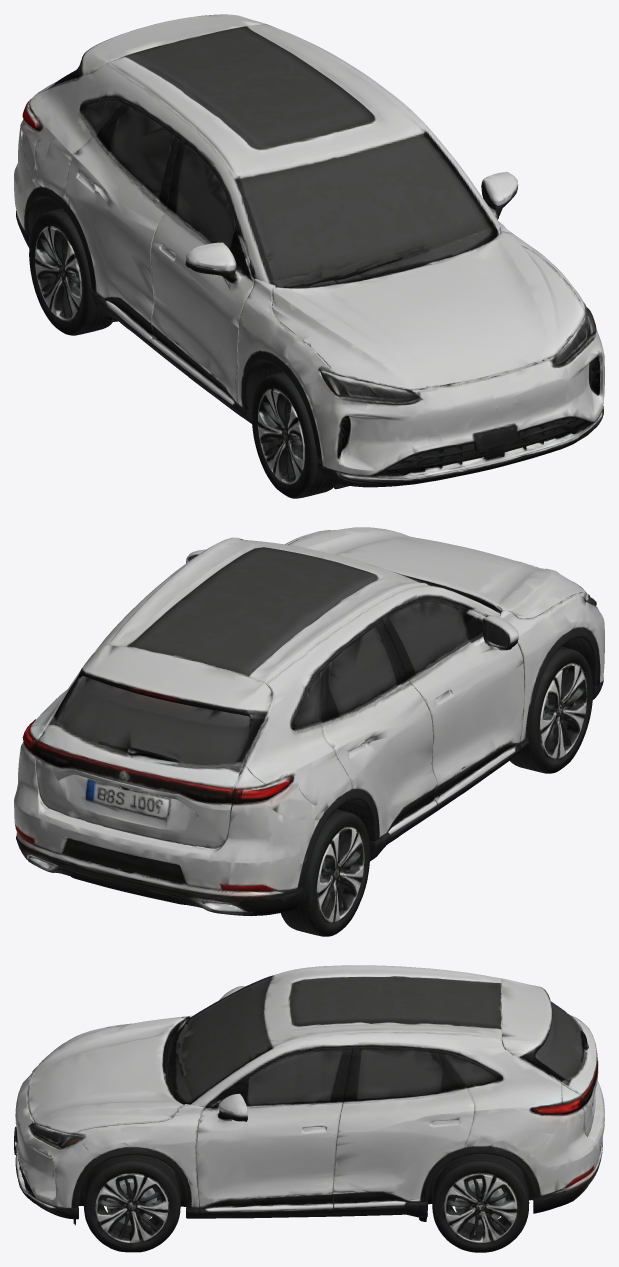
Rendered from car_suv.glb.
The picture shows the model from 3 angles, top to bottom: view 1: azimuth 30°, elevation 25°; view 2: azimuth 150°, elevation 25°; view 3: azimuth 270°, elevation 25°; orthographic projection. The views are drawn at different scales.
Visible parts, largest first — view 1: tripo_node_8c5399f9-dbeb-4aed-8dcd-e58fa2274673; view 2: tripo_node_8c5399f9-dbeb-4aed-8dcd-e58fa2274673; view 3: tripo_node_8c5399f9-dbeb-4aed-8dcd-e58fa2274673.
Part boxes in pixels (<box>): tripo_node_8c5399f9-dbeb-4aed-8dcd-e58fa2274673: <box>14,14,604,498</box>; tripo_node_8c5399f9-dbeb-4aed-8dcd-e58fa2274673: <box>14,527,604,936</box>; tripo_node_8c5399f9-dbeb-4aed-8dcd-e58fa2274673: <box>14,965,604,1252</box>.
Bounding box in the file's own units: 2.12 × 1.6 × 4.23.
Materials: 1 (1 with a texture image).
